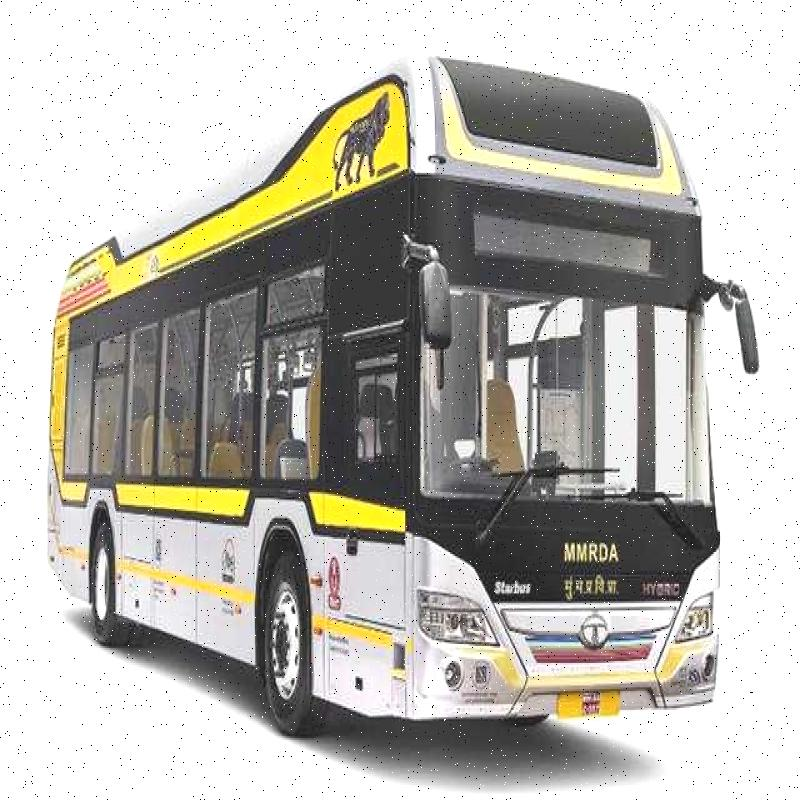bus: (51, 38, 739, 767)
